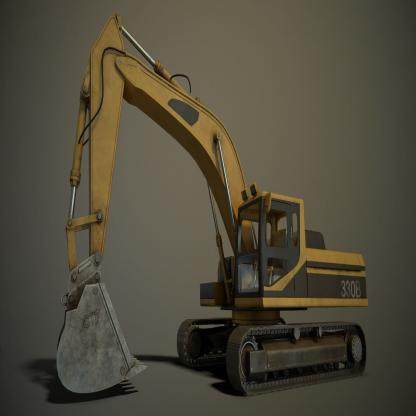excavator: (44, 14, 374, 399)
